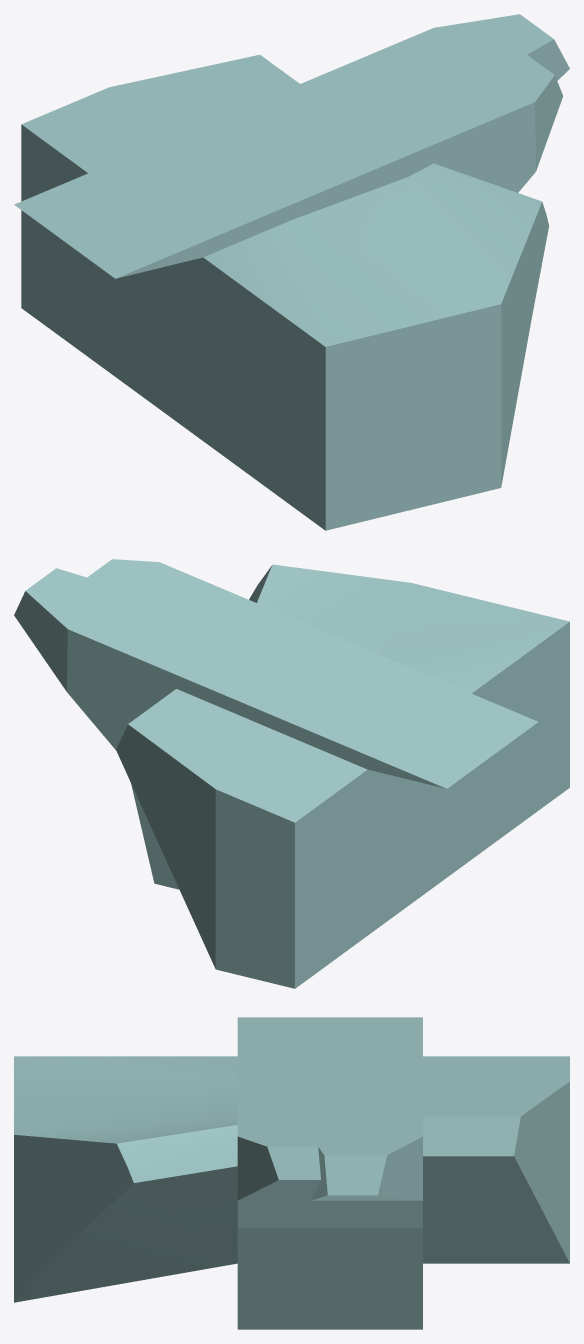
File: x_kray_obriv_blue_6_1_mirror.fbx
3 renders of one model, top to bottom at view 1: azimuth 30°, elevation 25°; view 2: azimuth 150°, elevation 25°; view 3: azimuth 270°, elevation 25°, orthographic. The views are drawn at different scales.
Parts seen in each view (by area): view 1: x_kray_obriv_blue_6_1_mirror1; view 2: x_kray_obriv_blue_6_1_mirror1; view 3: x_kray_obriv_blue_6_1_mirror1.
Part boxes in pixels (x1,y1,x2,y2): x_kray_obriv_blue_6_1_mirror1: (14, 14, 569, 530); x_kray_obriv_blue_6_1_mirror1: (14, 559, 569, 988); x_kray_obriv_blue_6_1_mirror1: (14, 1017, 569, 1329).
Size of the model in its own units: 2.87 by 1.47 by 3.
